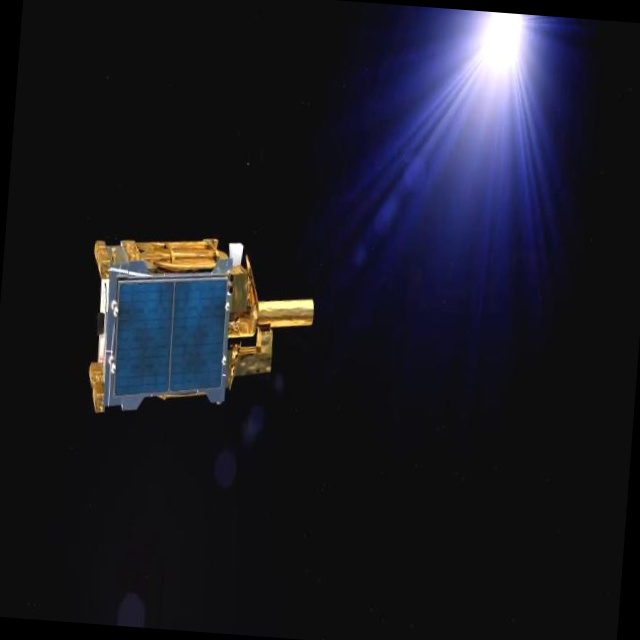satellite: (61, 185, 336, 440)
